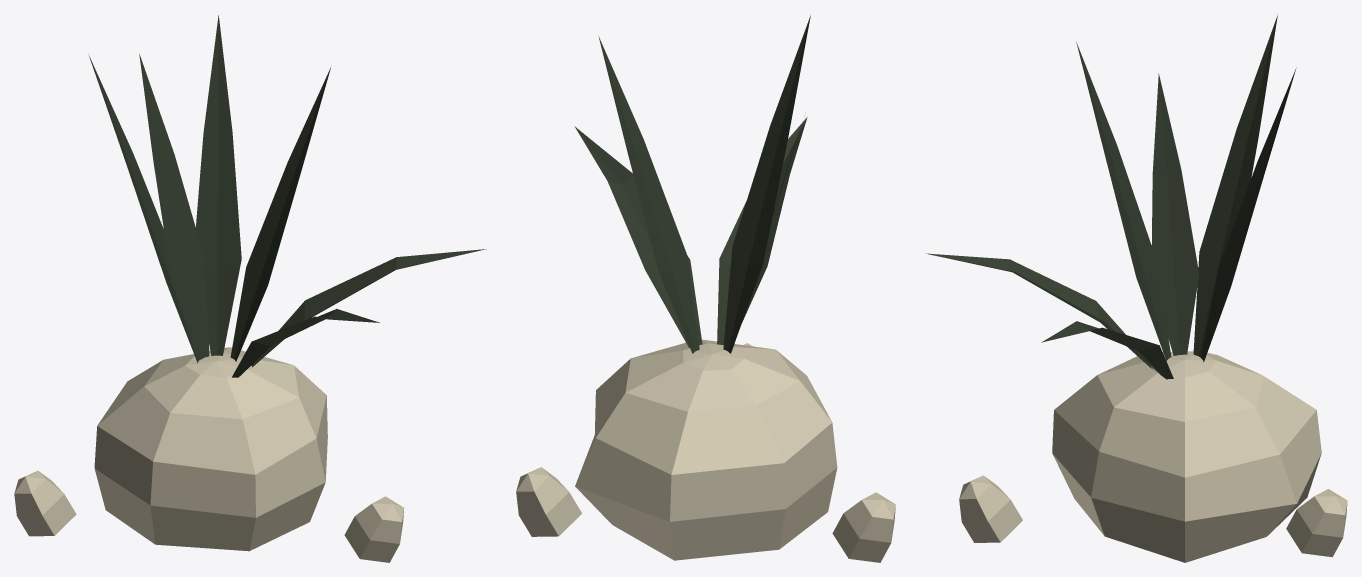
The model's file is boneroot_s3.glb.
The picture shows the model from 3 angles, left to right: view 1: azimuth 30°, elevation 25°; view 2: azimuth 150°, elevation 25°; view 3: azimuth 270°, elevation 25°; orthographic projection. The views are drawn at different scales.
Visible parts, largest first — view 1: boneroot_s3; view 2: boneroot_s3; view 3: boneroot_s3.
Boxes of the visible parts, x1,y1,x2,y2 form: boneroot_s3: [14, 15, 486, 562]; boneroot_s3: [516, 15, 895, 562]; boneroot_s3: [926, 14, 1347, 562].
Bounding box in the file's own units: 0.4792 × 0.5219 × 0.4414.
